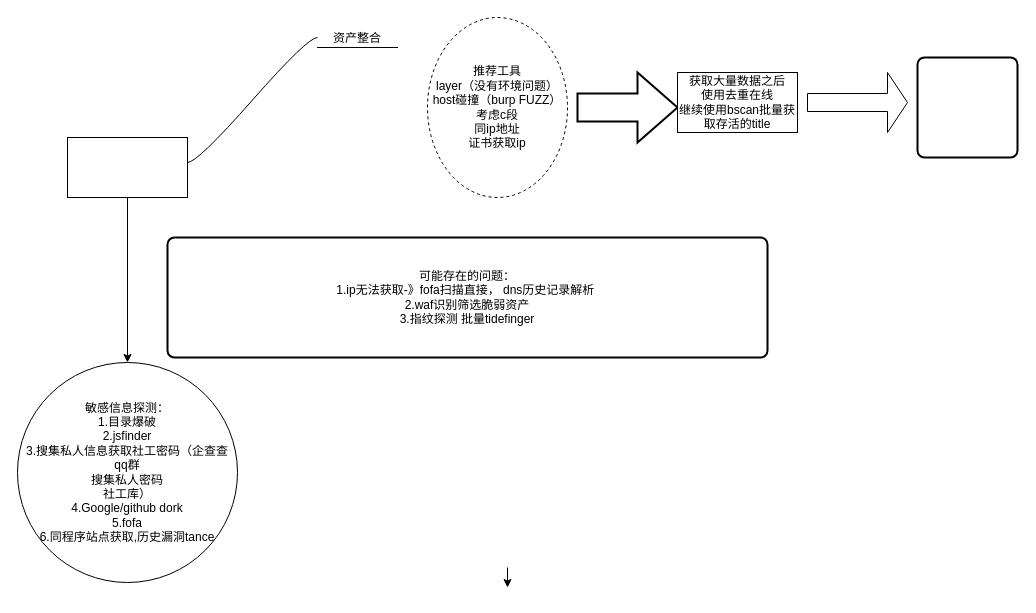
This 1036x613 diagram has some shape labels left out. The centre of each missing label's shape, as x and y in pixels:
"信息搜集" goes at pixel 127 167.
"确定目标 继进行探测" goes at pixel 967 107.
